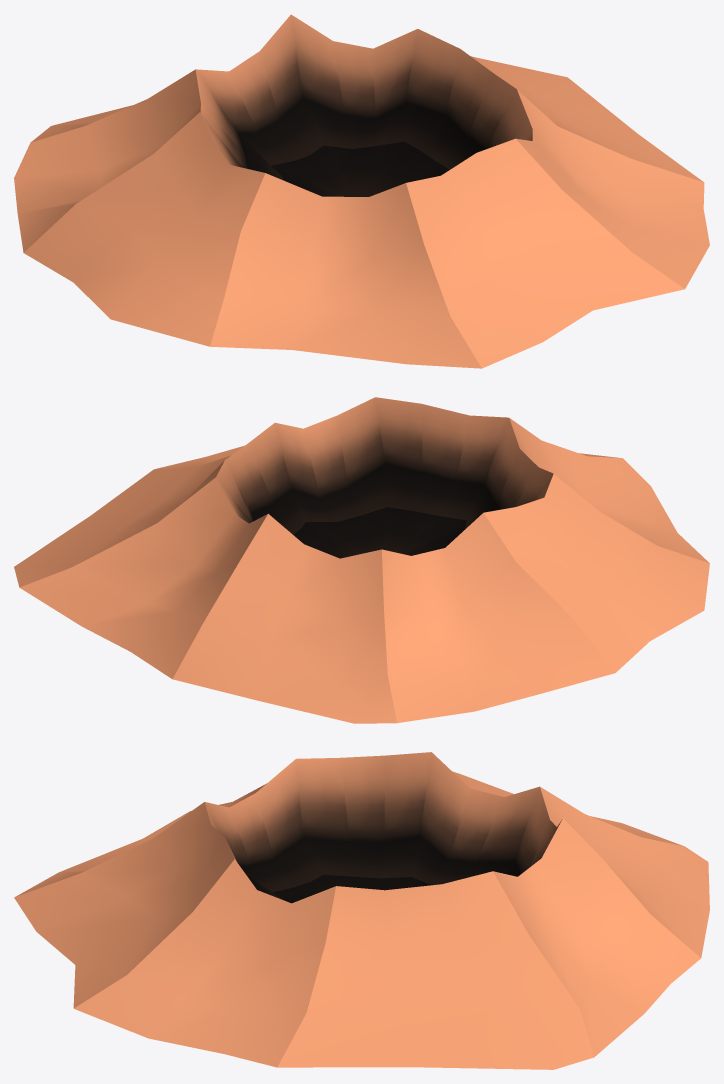
The model's file is Spawn_Crater.fbx.
The picture shows the model from 3 angles, top to bottom: view 1: azimuth 30°, elevation 25°; view 2: azimuth 150°, elevation 25°; view 3: azimuth 270°, elevation 25°; orthographic projection. The views are drawn at different scales.
Parts seen in each view (by area): view 1: Crater_3; view 2: Crater_3; view 3: Crater_3.
Part boxes in pixels (box(x1,y1,x2,y2)): Crater_3: box(14, 14, 709, 368); Crater_3: box(14, 397, 709, 723); Crater_3: box(14, 752, 709, 1069).
Bounding box in the file's own units: 3.33 × 0.696 × 3.48.
